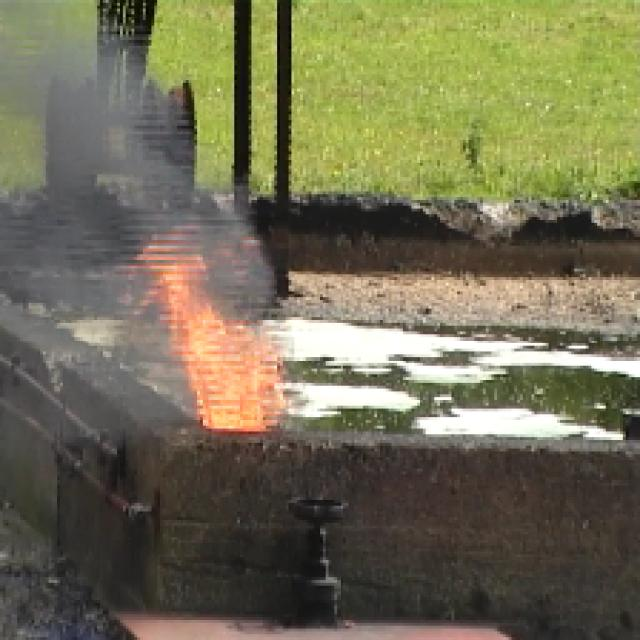fire: (177, 320, 260, 435)
smoke: (32, 100, 158, 290)
